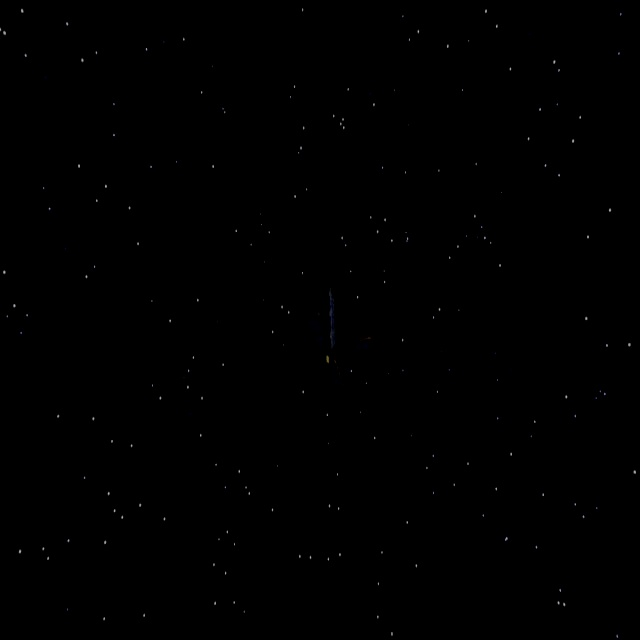medium_debris: (294, 279, 374, 399)
